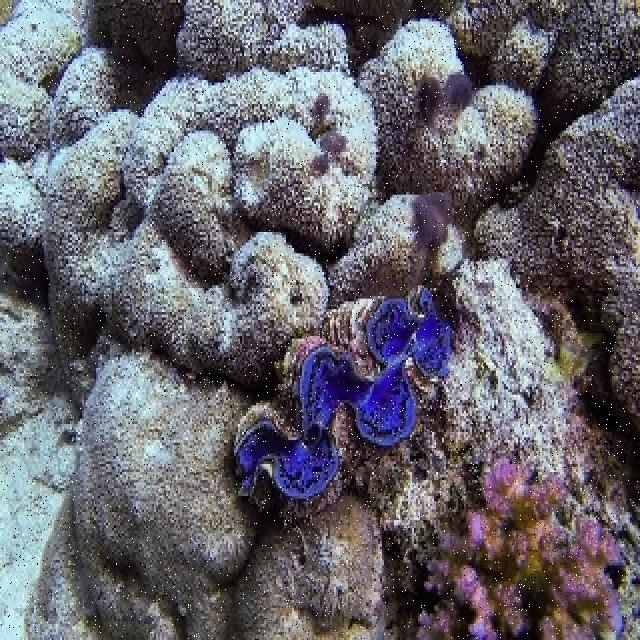reefs: (231, 286, 453, 525)
